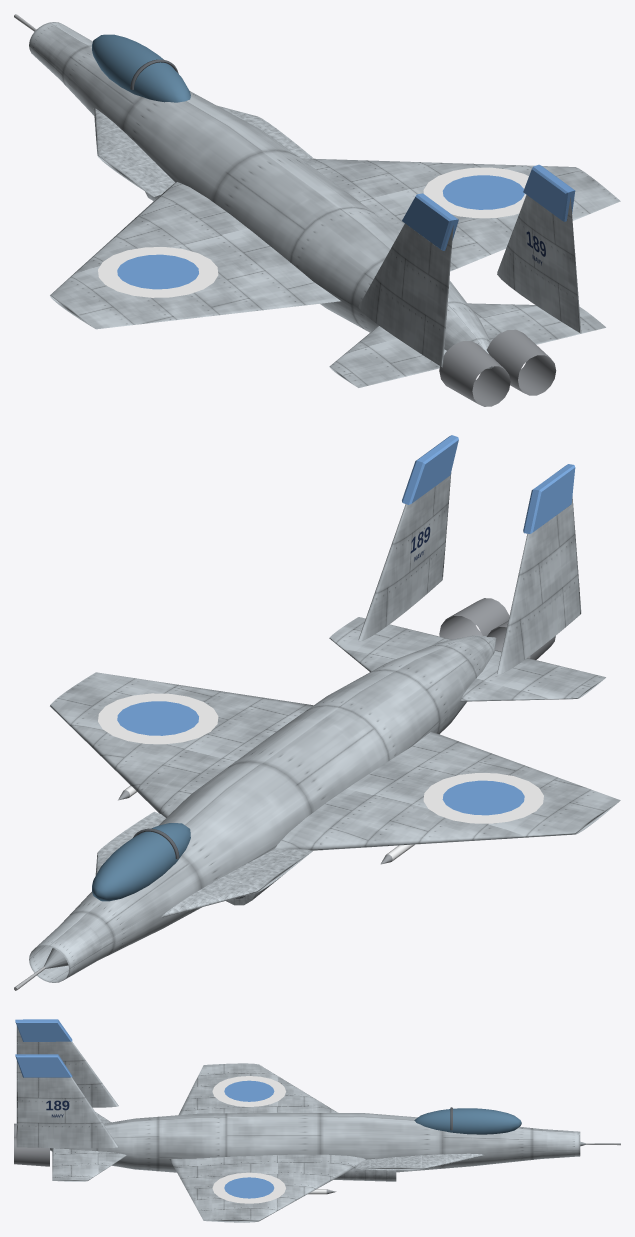
3 views of the same model, one above another, from view 1: azimuth 30°, elevation 25°; view 2: azimuth 150°, elevation 25°; view 3: azimuth 270°, elevation 25° (orthographic). The views are drawn at different scales.
Visible parts, largest first — view 1: detail (×6), part (×6); view 2: detail (×6), part (×6); view 3: detail (×5), part (×6).
Boxes of the visible parts, left/top/right/bottom form: detail (×6): left=29, top=22, right=620, bottom=387; part (×6): left=92, top=34, right=575, bottom=406; detail (×6): left=29, top=472, right=620, bottom=982; part (×6): left=92, top=435, right=575, bottom=901; detail (×5): left=16, top=1026, right=580, bottom=1222; part (×6): left=14, top=1019, right=521, bottom=1203.
Bounding box in the file's own units: 14.4 × 5.76 × 23.69.
Materials: 15 (3 with a texture image).
